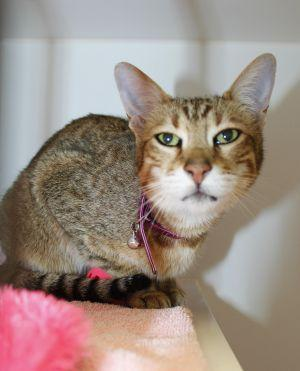bengal: (113, 50, 281, 230)
